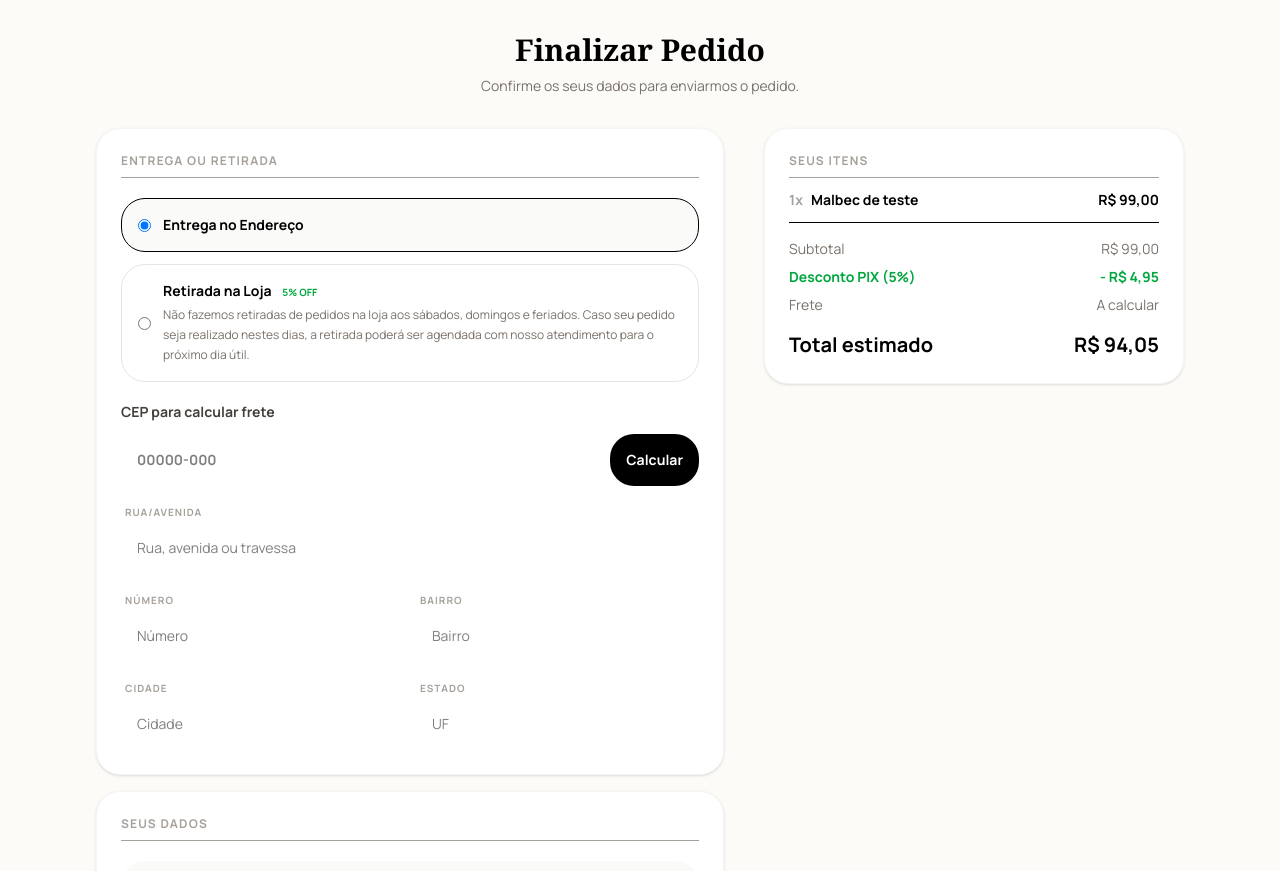
UX de compra › informa frete pendente, atualiza o resumo para retirada e mantém o cupom recolhido
Expected: the text "Total estimado" is shown, [789,331,933,359]
Expected: the text "A calcular" is shown, [1096,295,1159,315]
Click the radio button labelled "Retirada na Loja" at {"x": 144, "y": 323}, box [138,316,151,330]
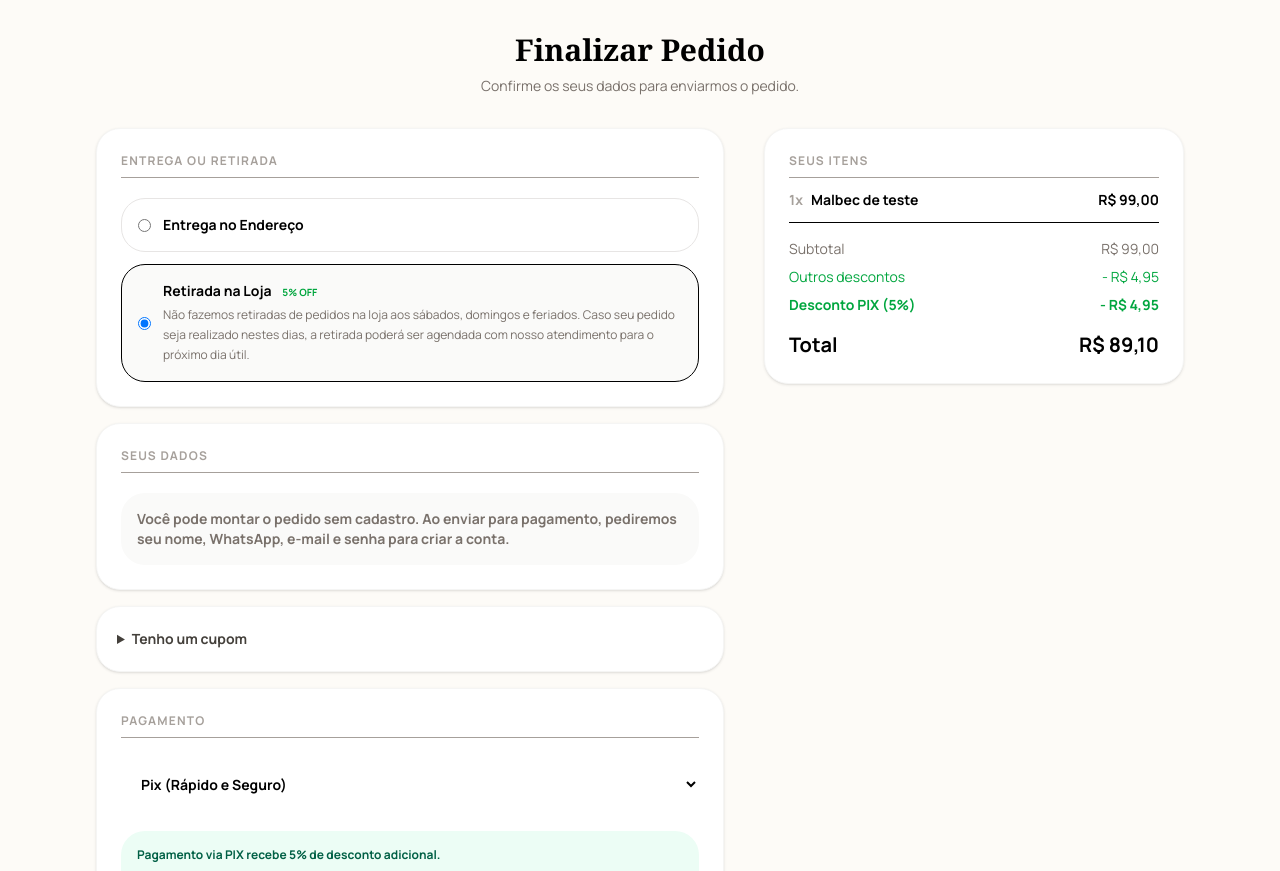
Expected: the text "Total" is shown, [789,331,838,359]
Expected: the text "Total estimado" is gone
Expected: the label labelled "CEP para calcular frete" is gone
